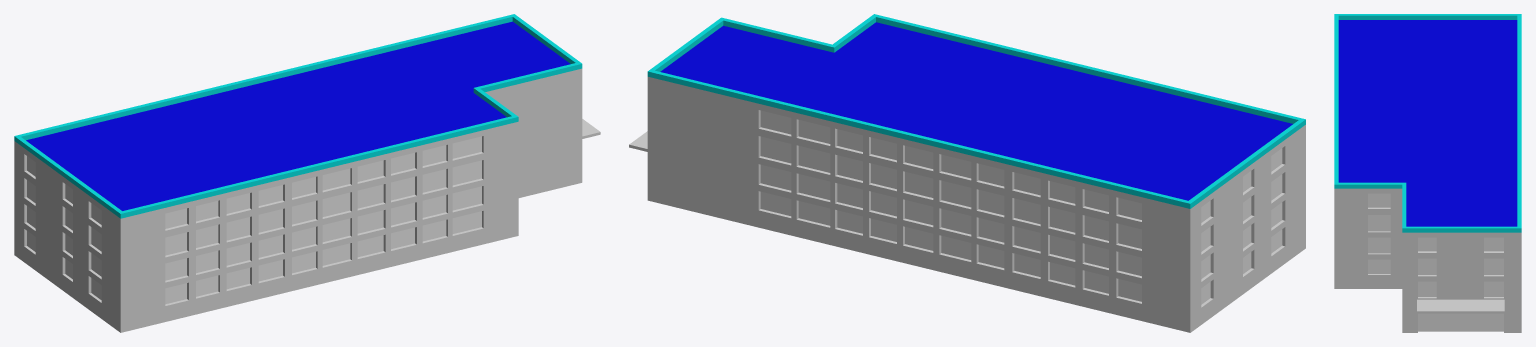
Rendered from JianZhu06.fbx.
The picture shows the model from 3 angles, left to right: view 1: azimuth 30°, elevation 25°; view 2: azimuth 150°, elevation 25°; view 3: azimuth 270°, elevation 25°; orthographic projection. The views are drawn at different scales.
Visible parts, largest first — view 1: polySurface1891, polySurface1943, JianZhu06, polySurface1944; view 2: polySurface1891, polySurface1943, JianZhu06, polySurface1944; view 3: polySurface1943, polySurface1891, JianZhu06, polySurface1944.
Part boxes in pixels (<box>): polySurface1891: <box>14,68,582,332</box>; polySurface1943: <box>26,21,570,210</box>; JianZhu06: <box>27,119,600,304</box>; polySurface1944: <box>14,14,582,218</box>; polySurface1891: <box>647,77,1305,332</box>; polySurface1943: <box>660,22,1292,200</box>; JianZhu06: <box>629,110,1282,304</box>; polySurface1944: <box>647,14,1305,208</box>; polySurface1943: <box>1338,20,1517,226</box>; polySurface1891: <box>1334,188,1521,332</box>; JianZhu06: <box>1368,193,1504,331</box>; polySurface1944: <box>1334,14,1521,232</box>.
Size of the model in its own units: 253 by 54.6 by 88.52.
